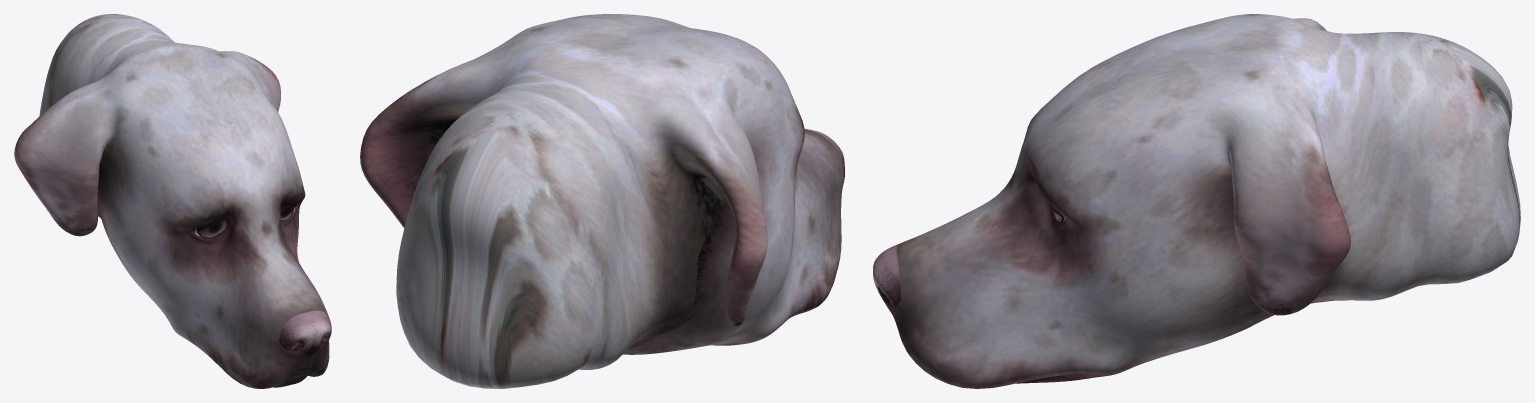
File: doggy head2.1.fbx
3 renders of one model, left to right at view 1: azimuth 30°, elevation 25°; view 2: azimuth 150°, elevation 25°; view 3: azimuth 270°, elevation 25°, orthographic. The views are drawn at different scales.
Visible parts, largest first — view 1: _Dog_v1_L2:Dog_body; view 2: _Dog_v1_L2:Dog_body; view 3: _Dog_v1_L2:Dog_body.
Boxes of the visible parts, x1,y1,x2,y2 form: _Dog_v1_L2:Dog_body: [14, 14, 331, 388]; _Dog_v1_L2:Dog_body: [360, 14, 844, 388]; _Dog_v1_L2:Dog_body: [873, 14, 1520, 388].
Size of the model in its own units: 17.54 by 15.8 by 27.47.
